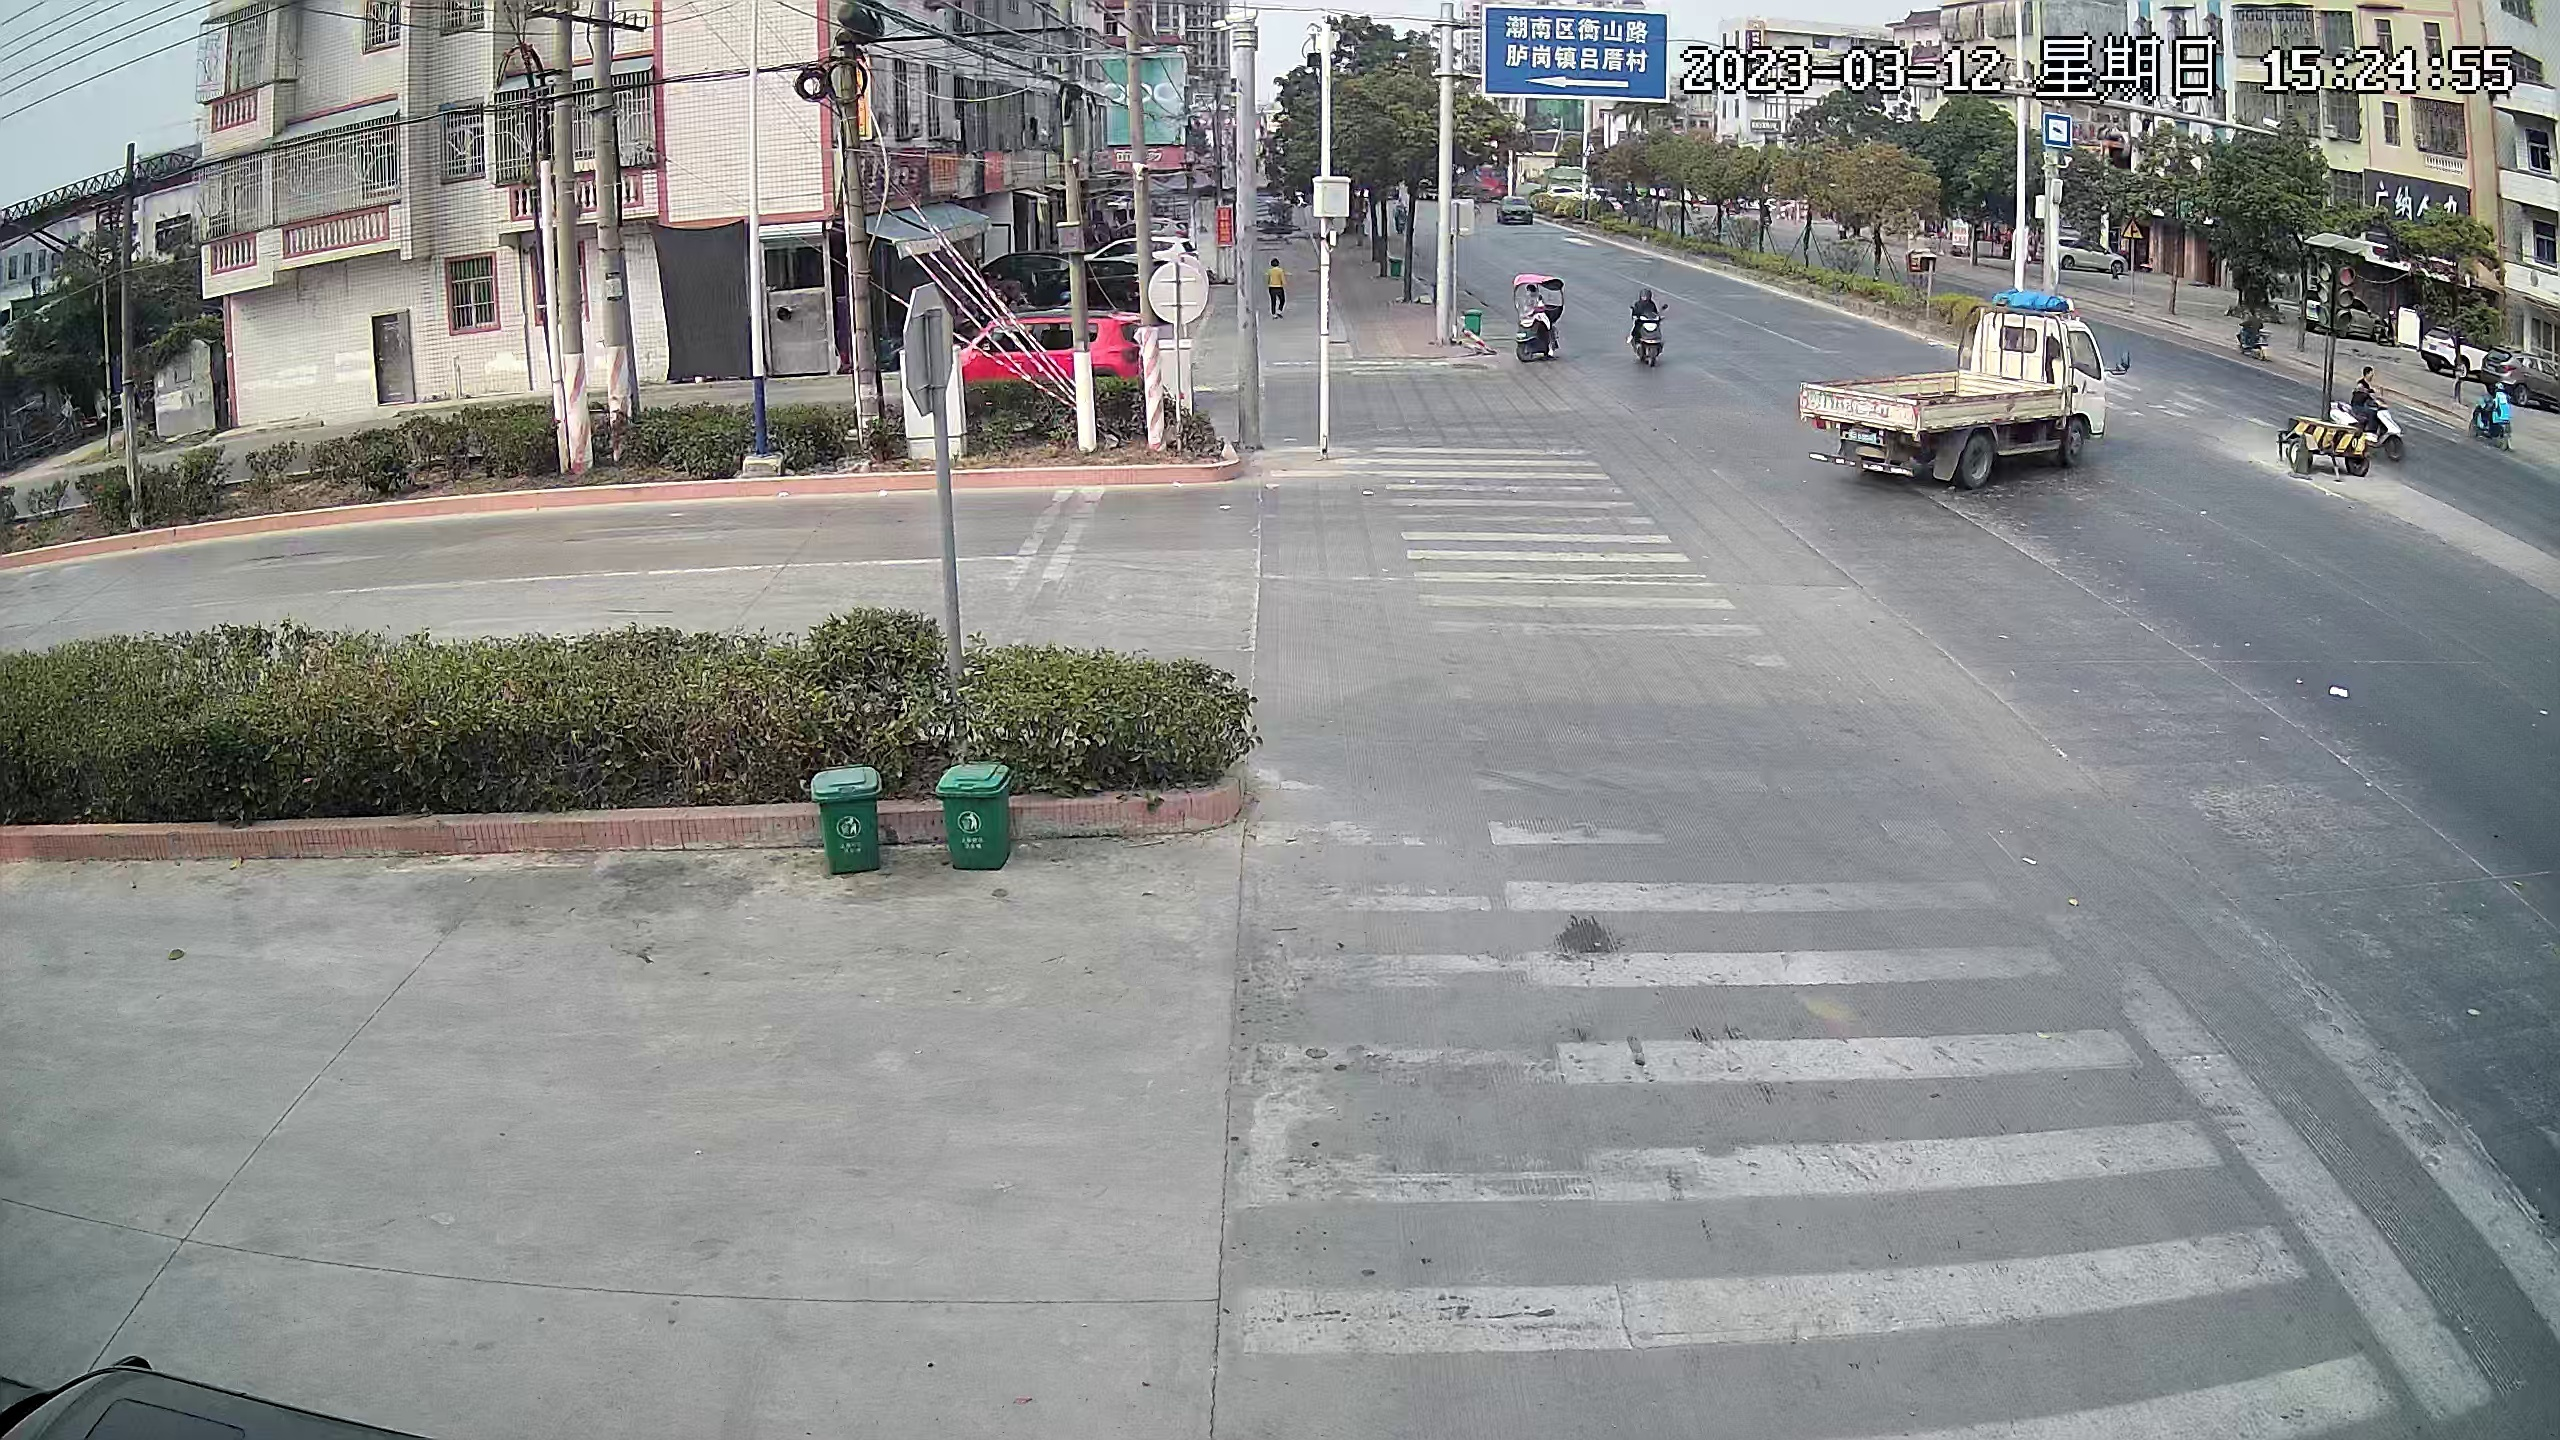motorcycle: (2342, 360, 2403, 458), (1510, 269, 1565, 370), (1620, 292, 1675, 372), (2469, 377, 2518, 454), (1388, 198, 1413, 242)
person: (1260, 247, 1294, 327)
sedan: (5, 1339, 445, 1440), (1042, 259, 1148, 309), (2297, 277, 2375, 345), (2052, 227, 2129, 279), (2493, 345, 2557, 405), (1093, 235, 1200, 265), (2429, 323, 2480, 373), (1495, 195, 1532, 232)
suv: (924, 310, 1163, 395)
truck: (1803, 288, 2110, 489)
